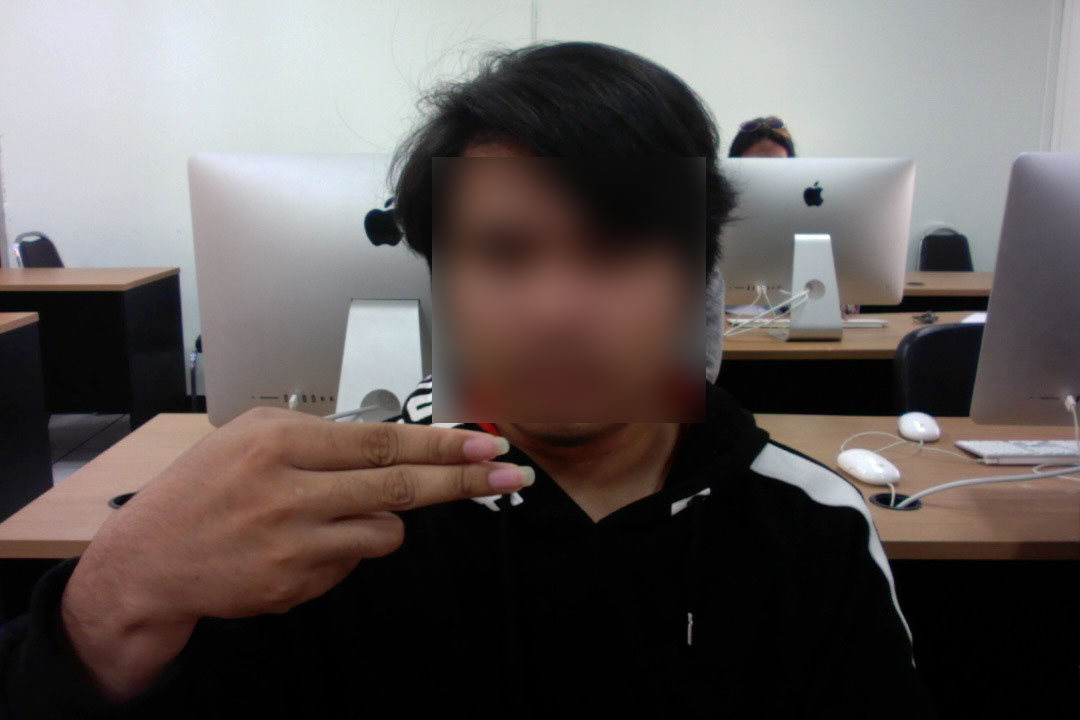hor: (78, 392, 540, 629)
